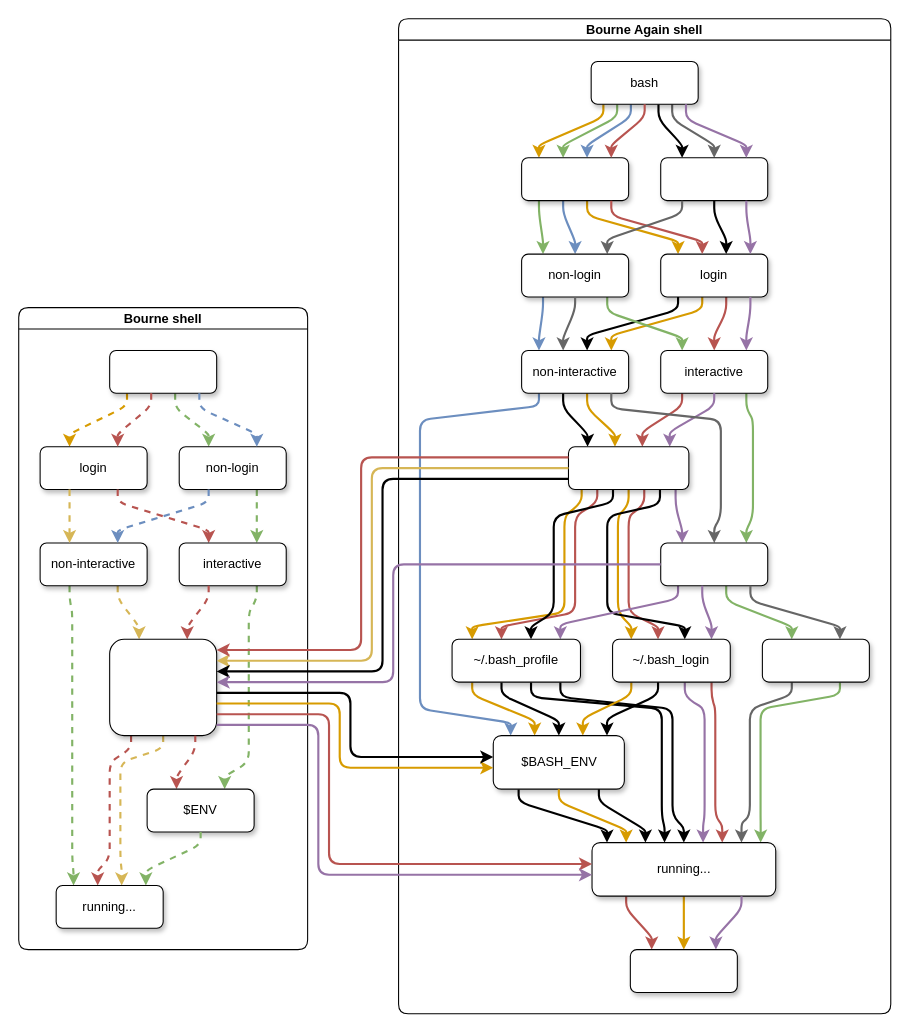
The diagram is 910 pixels wide and 1033 high, and some of its shapes have lost their labels. Here are the shapes that lost their labels. From the top down, the centre of each, then its label:
At (x=575, y=180): "normal shell".
At (x=714, y=180): "remoote shell (rsh/ssh)".
At (x=163, y=373): "sh".
At (x=629, y=469): "/etc/profile".
At (x=714, y=565): "/etc/bash.bashrc".
At (x=816, y=662): "~/.bashrc".
At (x=163, y=688): "~/.profile".
At (x=684, y=972): "~/.bash_logout".
